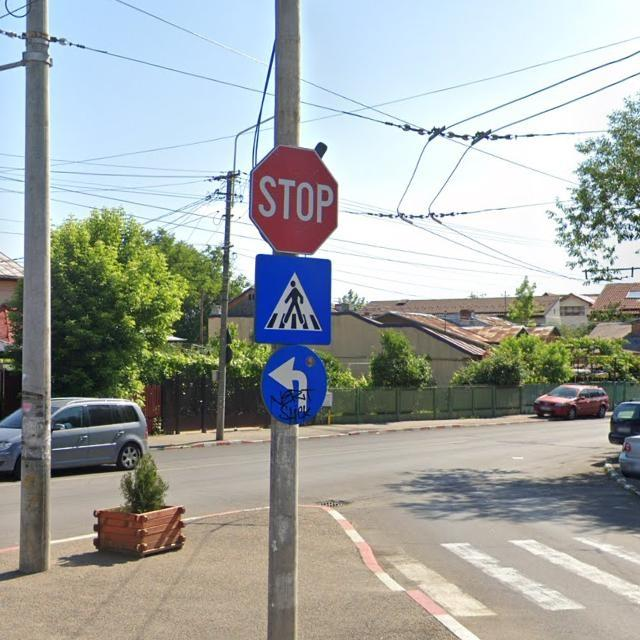info_crosswalk: (254, 254, 331, 343)
prio_stop: (250, 143, 340, 255)
